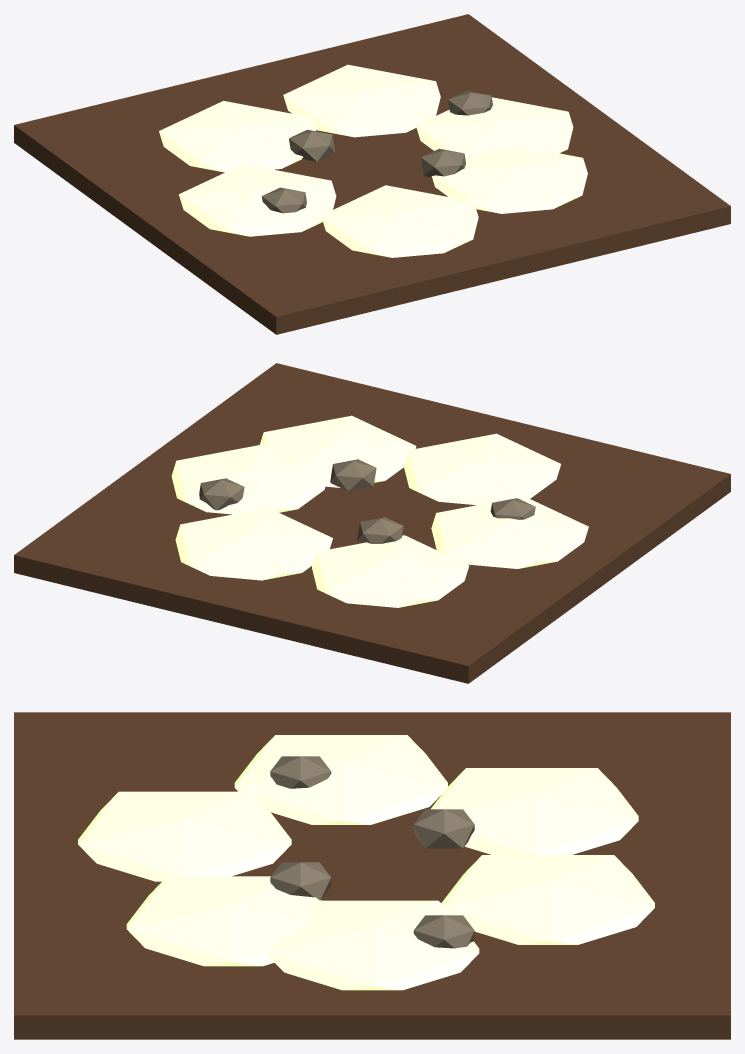
File: mire_surface.glb
3 views of the same model, one above another, from view 1: azimuth 30°, elevation 25°; view 2: azimuth 150°, elevation 25°; view 3: azimuth 270°, elevation 25° (orthographic). The views are drawn at different scales.
Parts seen in each view (by area): view 1: mire_surface; view 2: mire_surface; view 3: mire_surface.
Part boxes in pixels (bbox=[...]): mire_surface: bbox=[14, 14, 730, 334]; mire_surface: bbox=[14, 363, 730, 683]; mire_surface: bbox=[14, 712, 730, 1039].
Bounding box in the file's own units: 4 × 0.345 × 4.
Materials: 2 (1 with a texture image).
